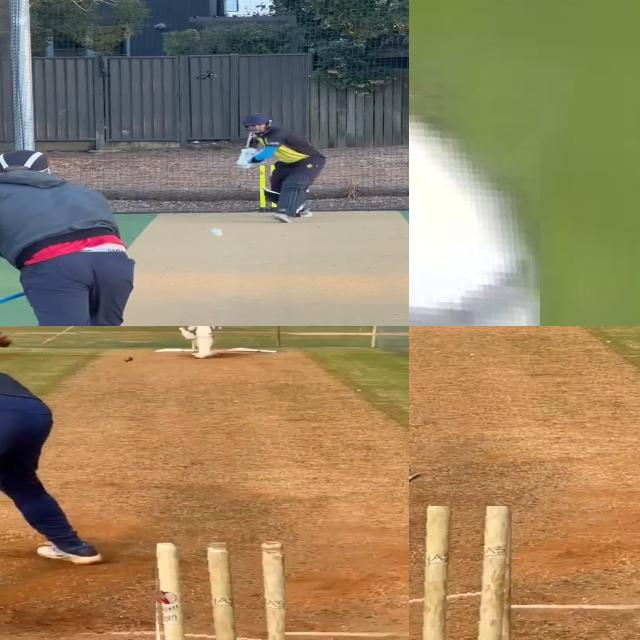Cricket ball: (409, 76, 539, 326), (210, 226, 226, 237), (123, 357, 134, 364)
Stumps: (409, 506, 512, 640), (151, 539, 285, 640)
